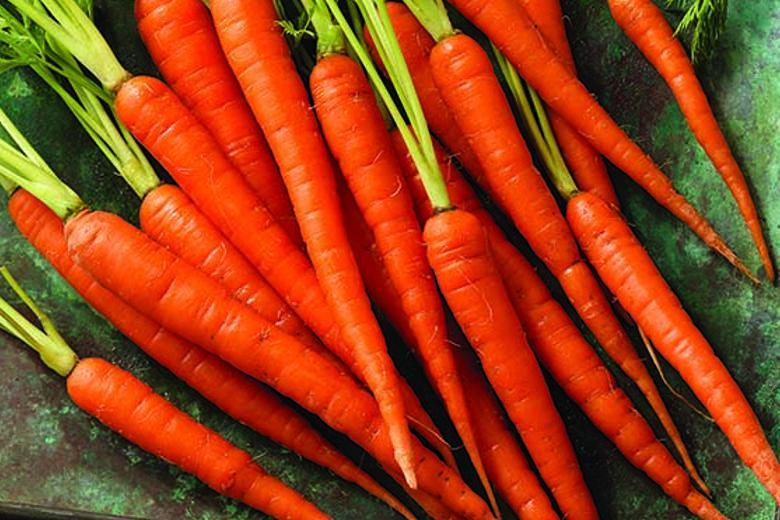carrot: (106, 1, 775, 520), (5, 119, 780, 520), (34, 343, 364, 520)
